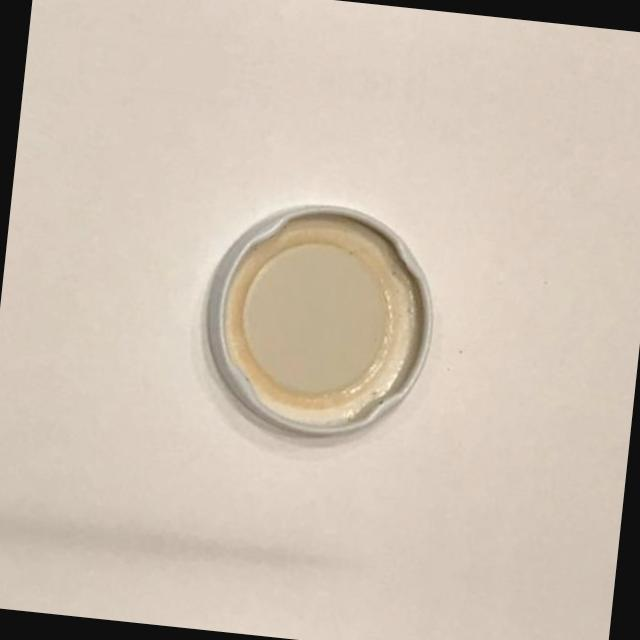Metal: (197, 182, 462, 463)
